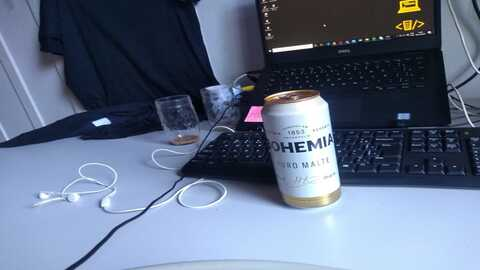bohemia: (264, 92, 336, 207)
